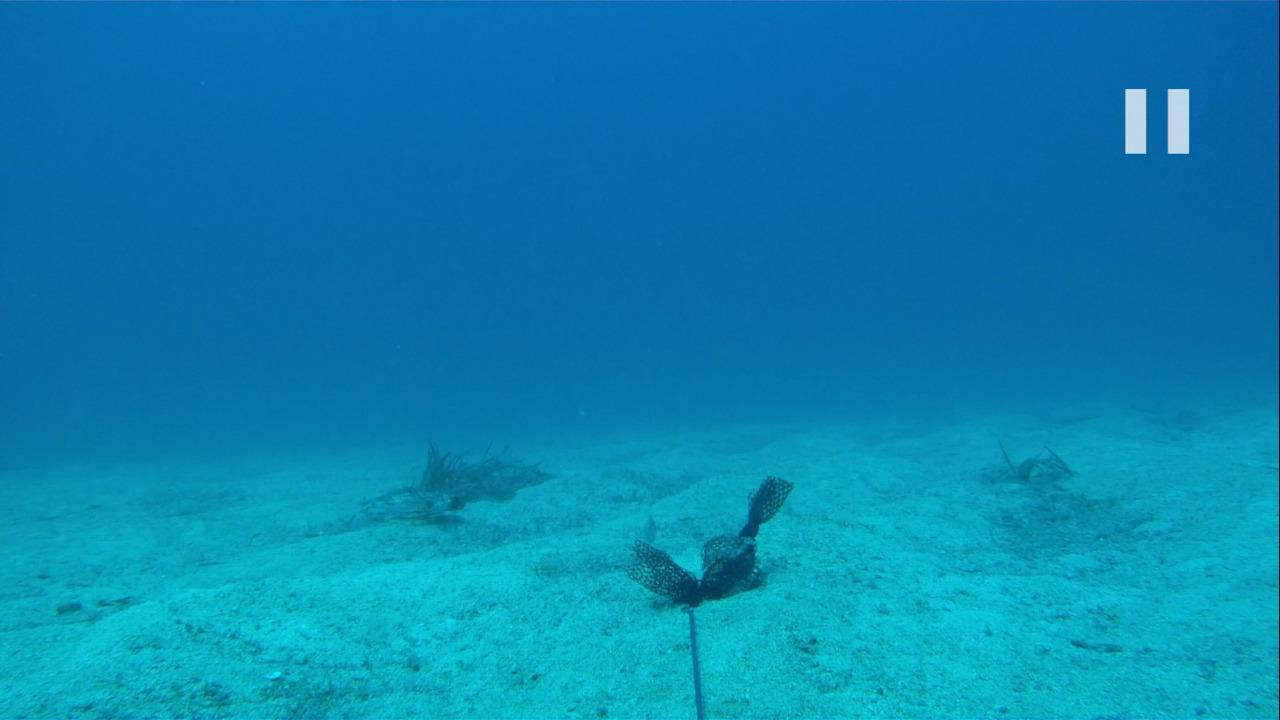dactylopterus: (296, 484, 467, 531)
raor: (633, 504, 665, 555)
